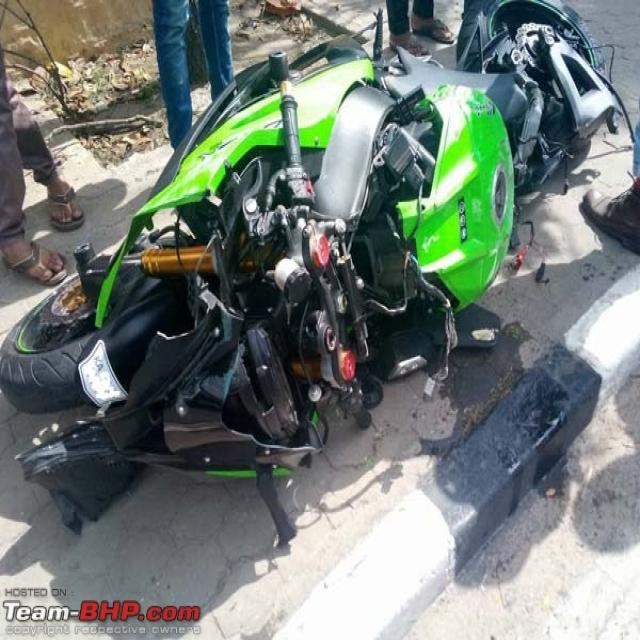accident: (0, 0, 621, 546)
